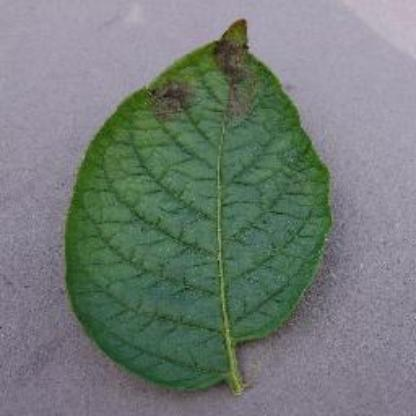Late-Blight: (57, 17, 344, 393)
